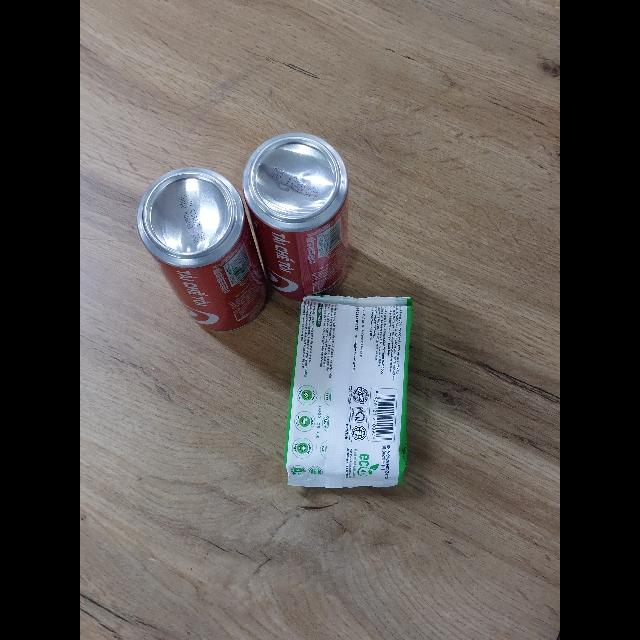coca_cola: (137, 168, 266, 331), (243, 133, 348, 300)
khan_giay: (285, 296, 412, 487)
